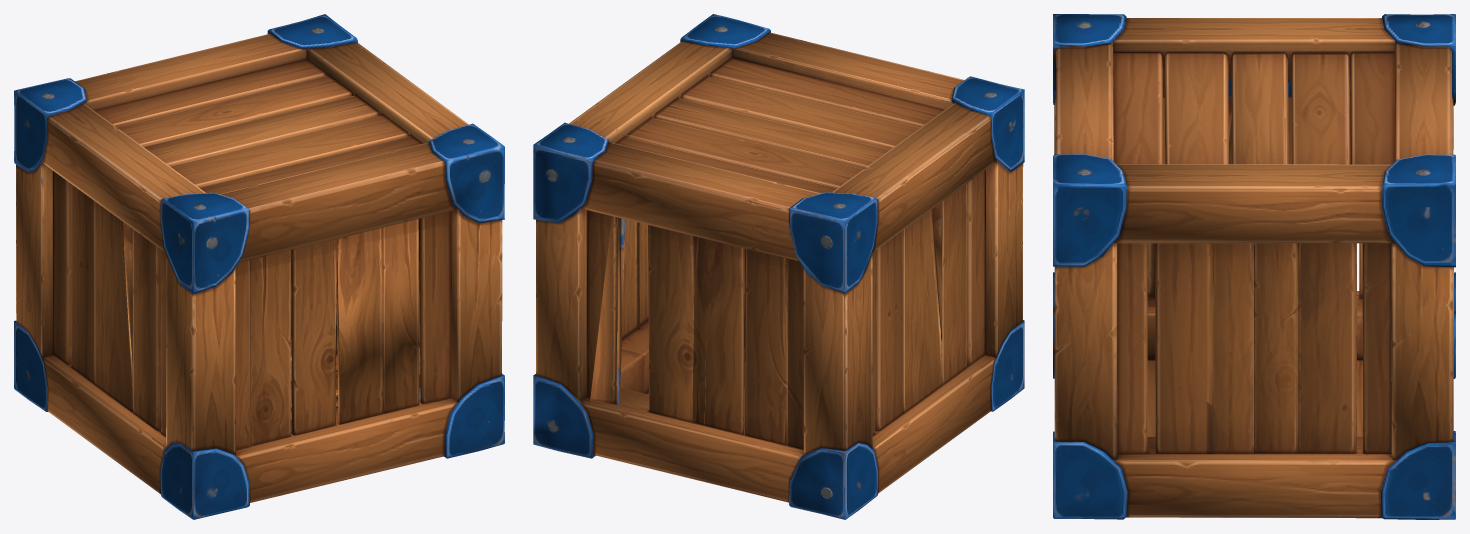
3 views of the same model, side by side, from view 1: azimuth 30°, elevation 25°; view 2: azimuth 150°, elevation 25°; view 3: azimuth 270°, elevation 25° (orthographic). The views are drawn at different scales.
Bounding box in the file's own units: 1 × 0.9282 × 1.
1 material, 1 textured.
